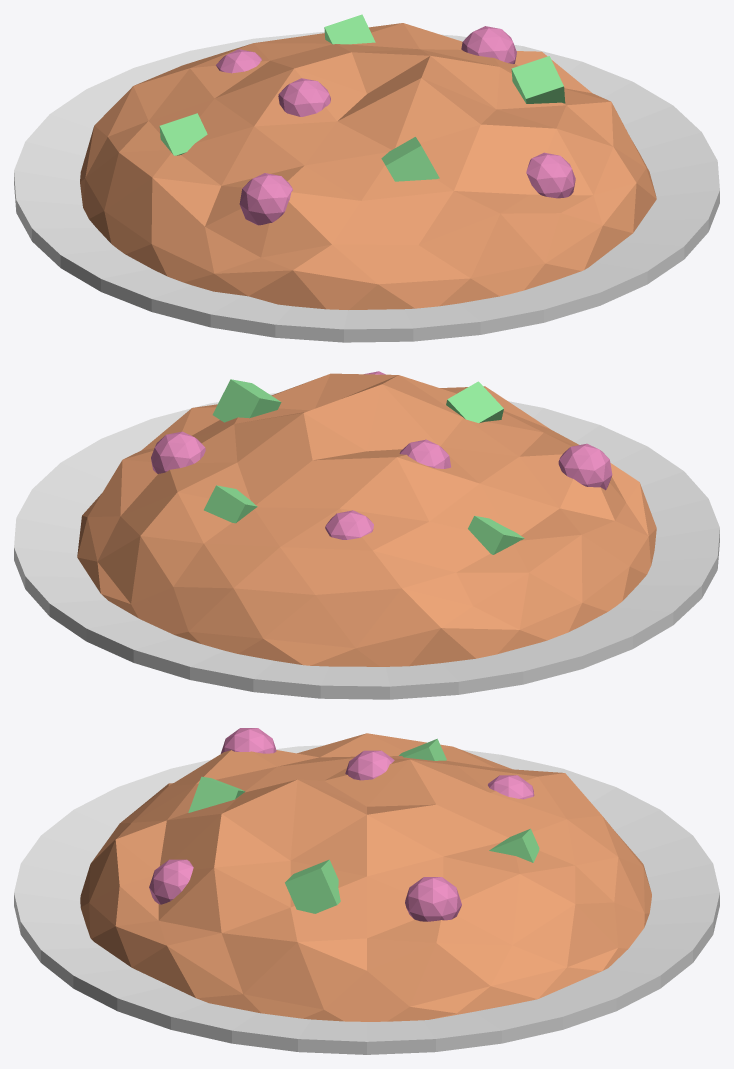
Rendered from füllung_mit_teller.fbx.
3 renders of one model, top to bottom at view 1: azimuth 30°, elevation 25°; view 2: azimuth 150°, elevation 25°; view 3: azimuth 270°, elevation 25°, orthographic.
Visible parts, largest first — view 1: Cylinder; view 2: Cylinder; view 3: Cylinder.
Boxes of the visible parts, <box> form: Cylinder: <box>14,14,719,342</box>; Cylinder: <box>14,371,719,699</box>; Cylinder: <box>14,728,719,1054</box>.
Size of the model in its own units: 25 by 5.73 by 25.
